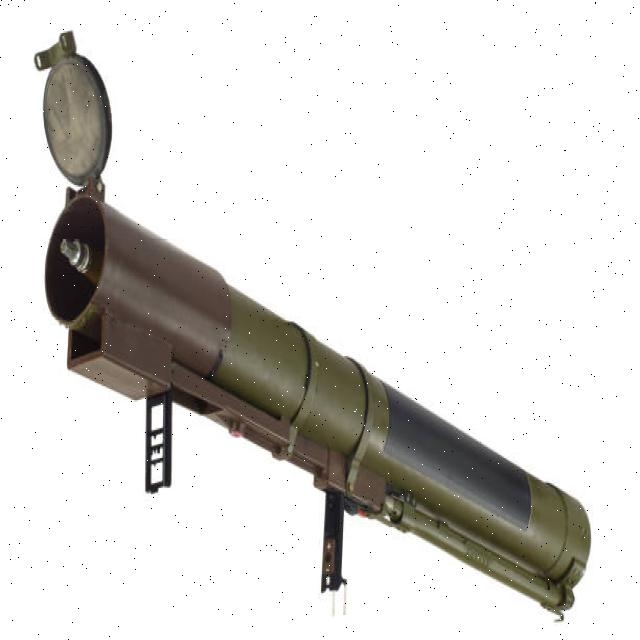bazooka: (29, 27, 602, 634)
